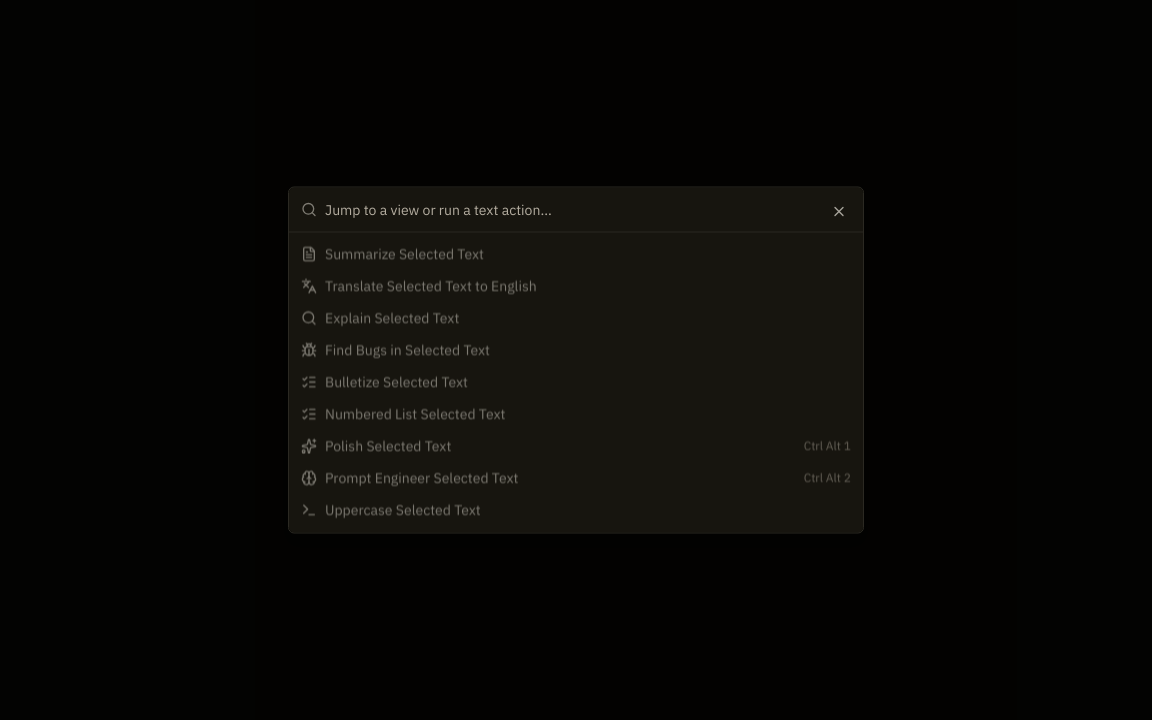
Scenario: AppCommandPalette › runs a selected-text action and shows a success toast
(page scrolled)
Click the option "Bulletize Selected Text": (384, 382) [301,374,468,392]
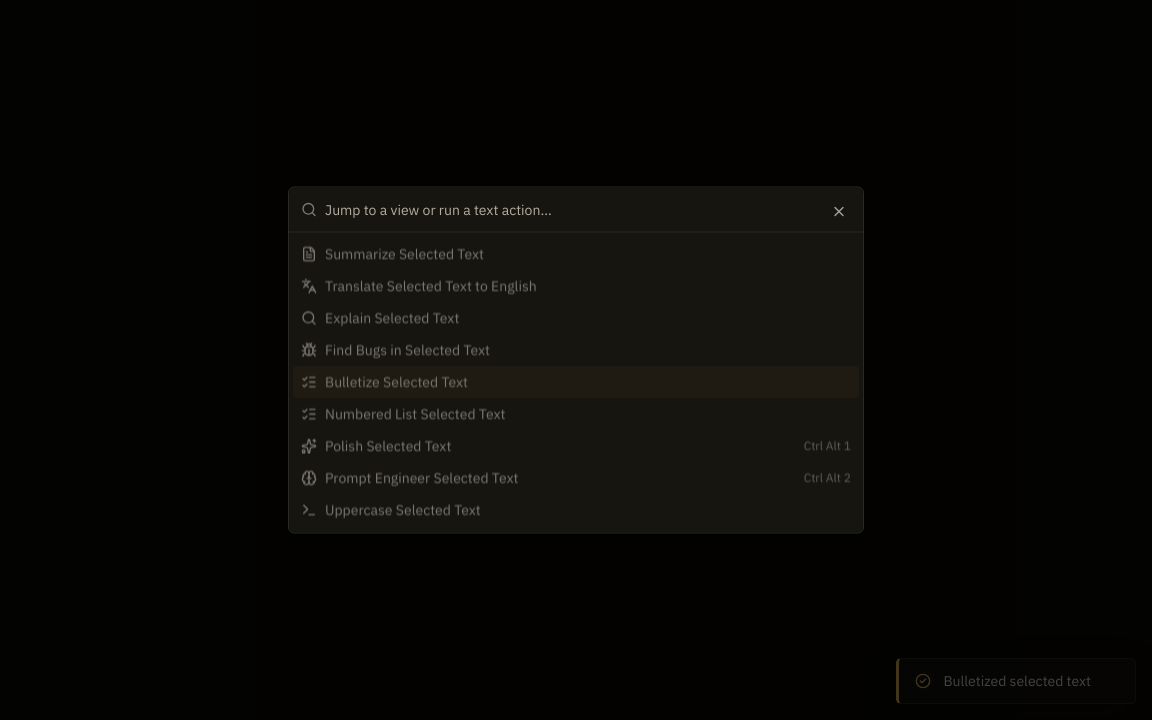
Expected: the text "Bulletized selected text" is shown, [943,671,1091,691]
